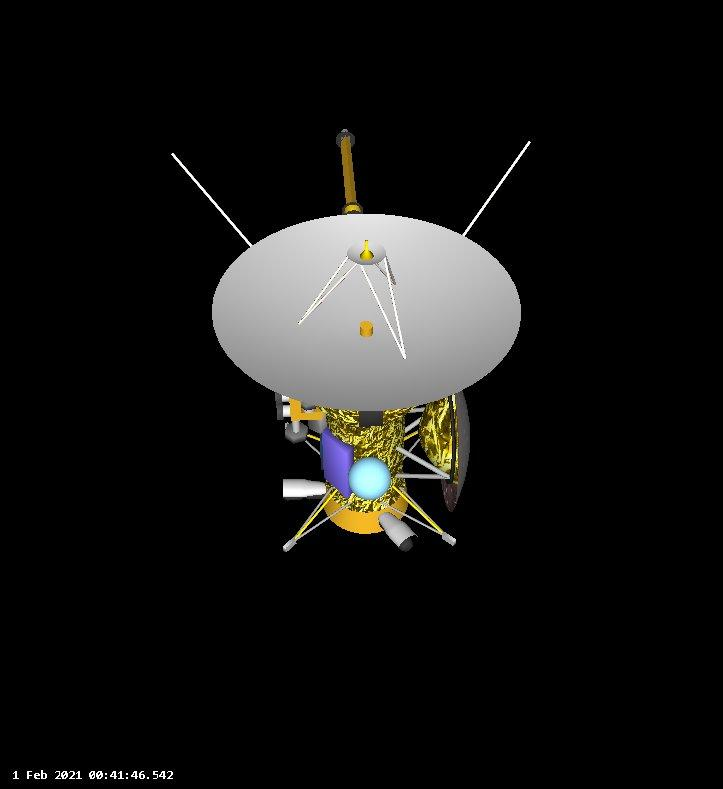antenna: (208, 211, 525, 414), (169, 150, 255, 249), (460, 137, 535, 238), (417, 389, 475, 516)
body: (320, 402, 413, 537)
